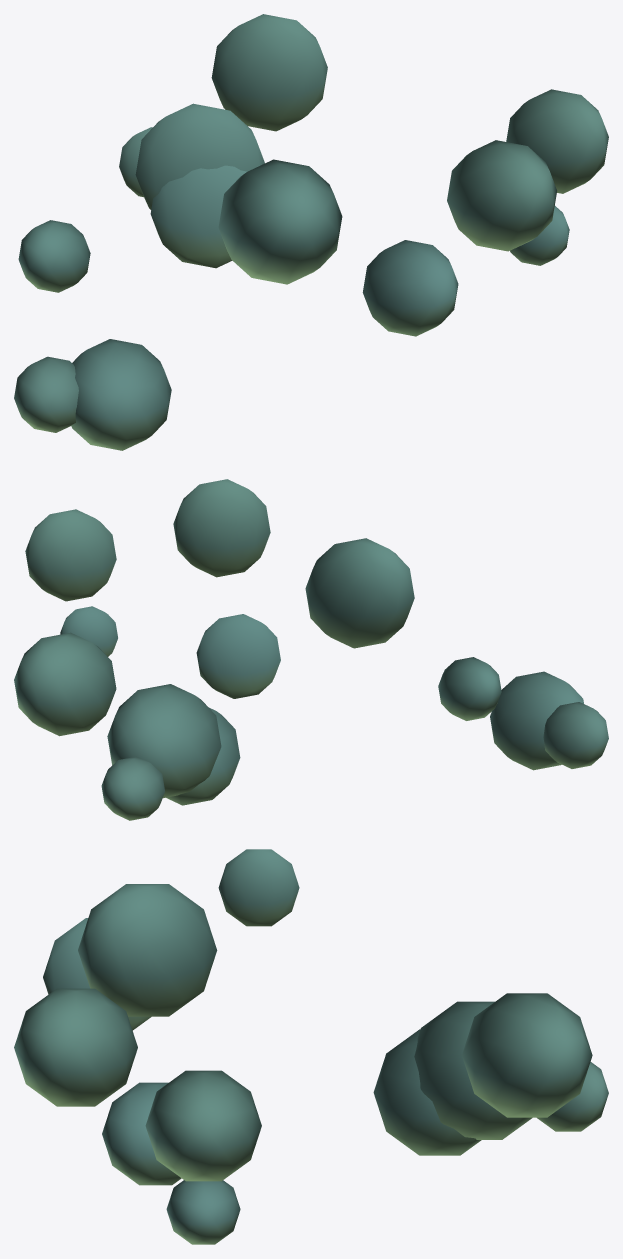
The model's file is bush_b.glb.
3 views of the same model, one above another, from view 1: azimuth 30°, elevation 25°; view 2: azimuth 150°, elevation 25°; view 3: azimuth 270°, elevation 25° (orthographic). The views are drawn at different scales.
Parts seen in each view (by area): view 1: bush_b_LOD0; view 2: bush_b_LOD0; view 3: bush_b_LOD0.
Boxes of the visible parts, x1=… form: bush_b_LOD0: x1=14, y1=14, x2=608, y2=450; bush_b_LOD0: x1=14, y1=479, x2=608, y2=820; bush_b_LOD0: x1=14, y1=849, x2=608, y2=1244.
Size of what is drawn, in the model's own units: 1.78 by 0.616 by 1.35.
